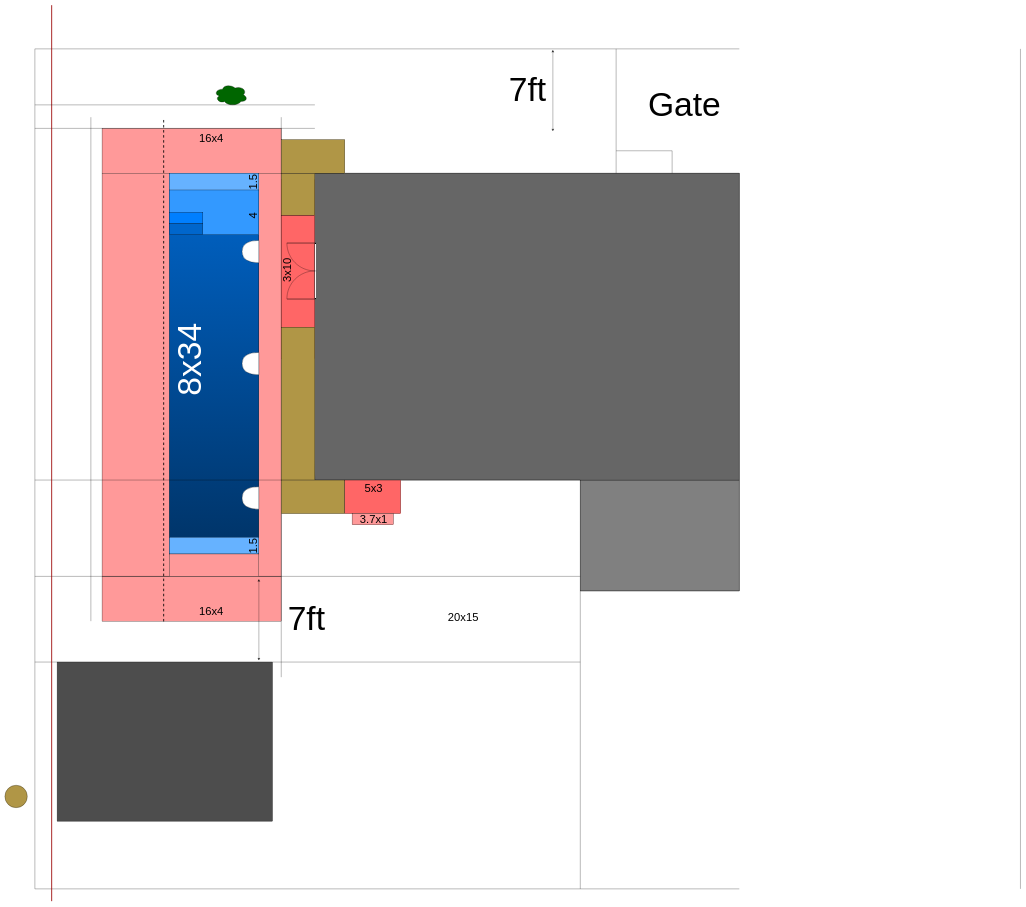
Some shapes in this 1026 by 907 pixel diagram are drawn without their labels. Here are the shapes that lost their labels. From the top down, the centre of each, then its label:
At point (135, 374): "6x36".
At point (270, 374): "2x36".
At point (214, 565): "8x2".
